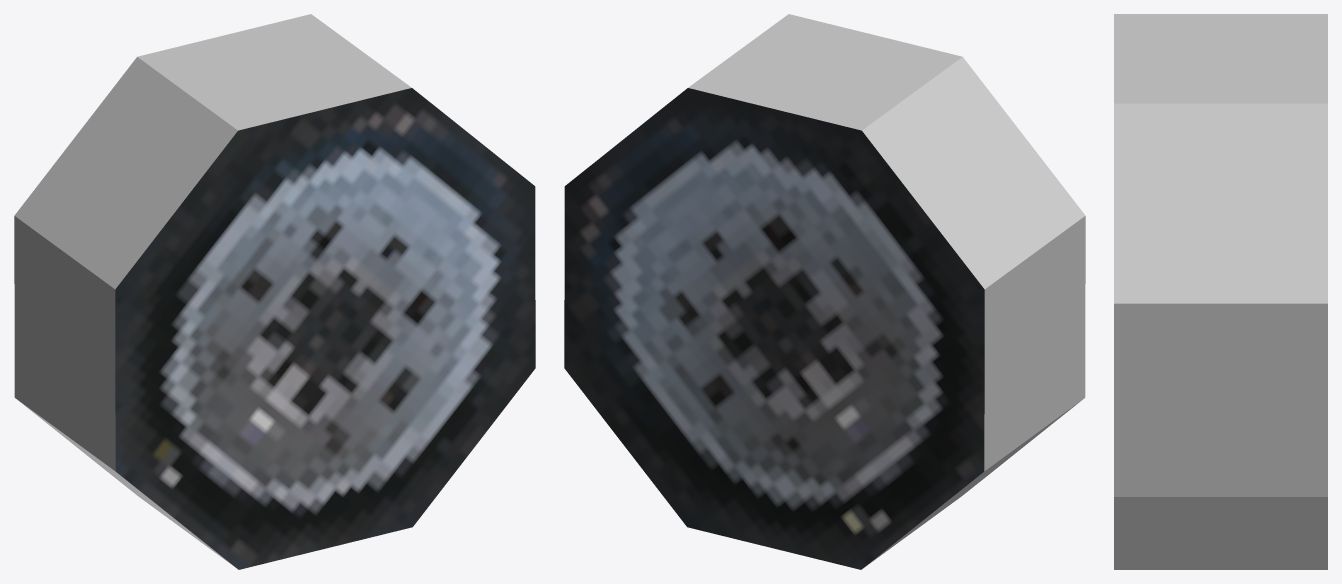
The model's file is carWheel 5.fbx.
The picture shows the model from 3 angles, left to right: view 1: azimuth 30°, elevation 25°; view 2: azimuth 150°, elevation 25°; view 3: azimuth 270°, elevation 25°; orthographic projection. The views are drawn at different scales.
Parts seen in each view (by area): view 1: Wheel; view 2: Wheel; view 3: Wheel.
Boxes of the visible parts, box(x1,y1,x2,y2) form: Wheel: box(14, 14, 535, 569); Wheel: box(564, 14, 1085, 569); Wheel: box(1114, 14, 1327, 569).
Size of the model in its own units: 30.76 by 73.97 by 73.97.
